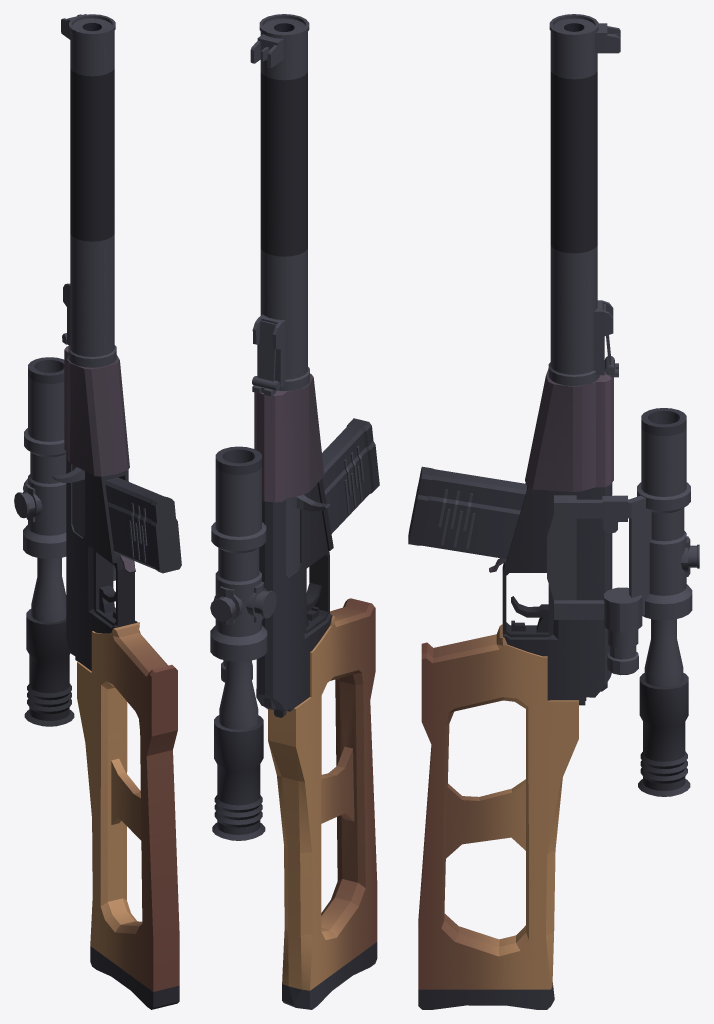
File: Vintorez.FBX
3 views of the same model, side by side, from view 1: azimuth 30°, elevation 25°; view 2: azimuth 150°, elevation 25°; view 3: azimuth 270°, elevation 25° (orthographic). The views are drawn at different scales.
Visible parts, largest first — view 1: vss_base, vss_scope, vss_mag, vss_Bolt, vss_Trigger; view 2: vss_base, vss_scope, vss_mag, vss_Bolt; view 3: vss_base, vss_scope, vss_mag.
Part boxes in pixels (box(x1,y1,x2,y2)): vss_base: box(61, 14, 179, 1009); vss_scope: box(14, 357, 128, 726); vss_mag: box(105, 477, 181, 573); vss_Bolt: box(52, 464, 84, 537); vss_Trigger: box(99, 585, 115, 613); vss_base: box(250, 14, 377, 1009); vss_scope: box(210, 446, 276, 840); vss_mag: box(322, 418, 379, 533); vss_Bolt: box(286, 495, 330, 576); vss_base: box(418, 14, 620, 1009); vss_scope: box(547, 408, 699, 796); vss_mag: box(408, 466, 526, 558).
Bounding box in the file's own units: 0.2695 × 3.12 × 0.8403.
